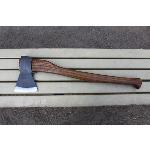Kapak: (10, 46, 148, 106)
